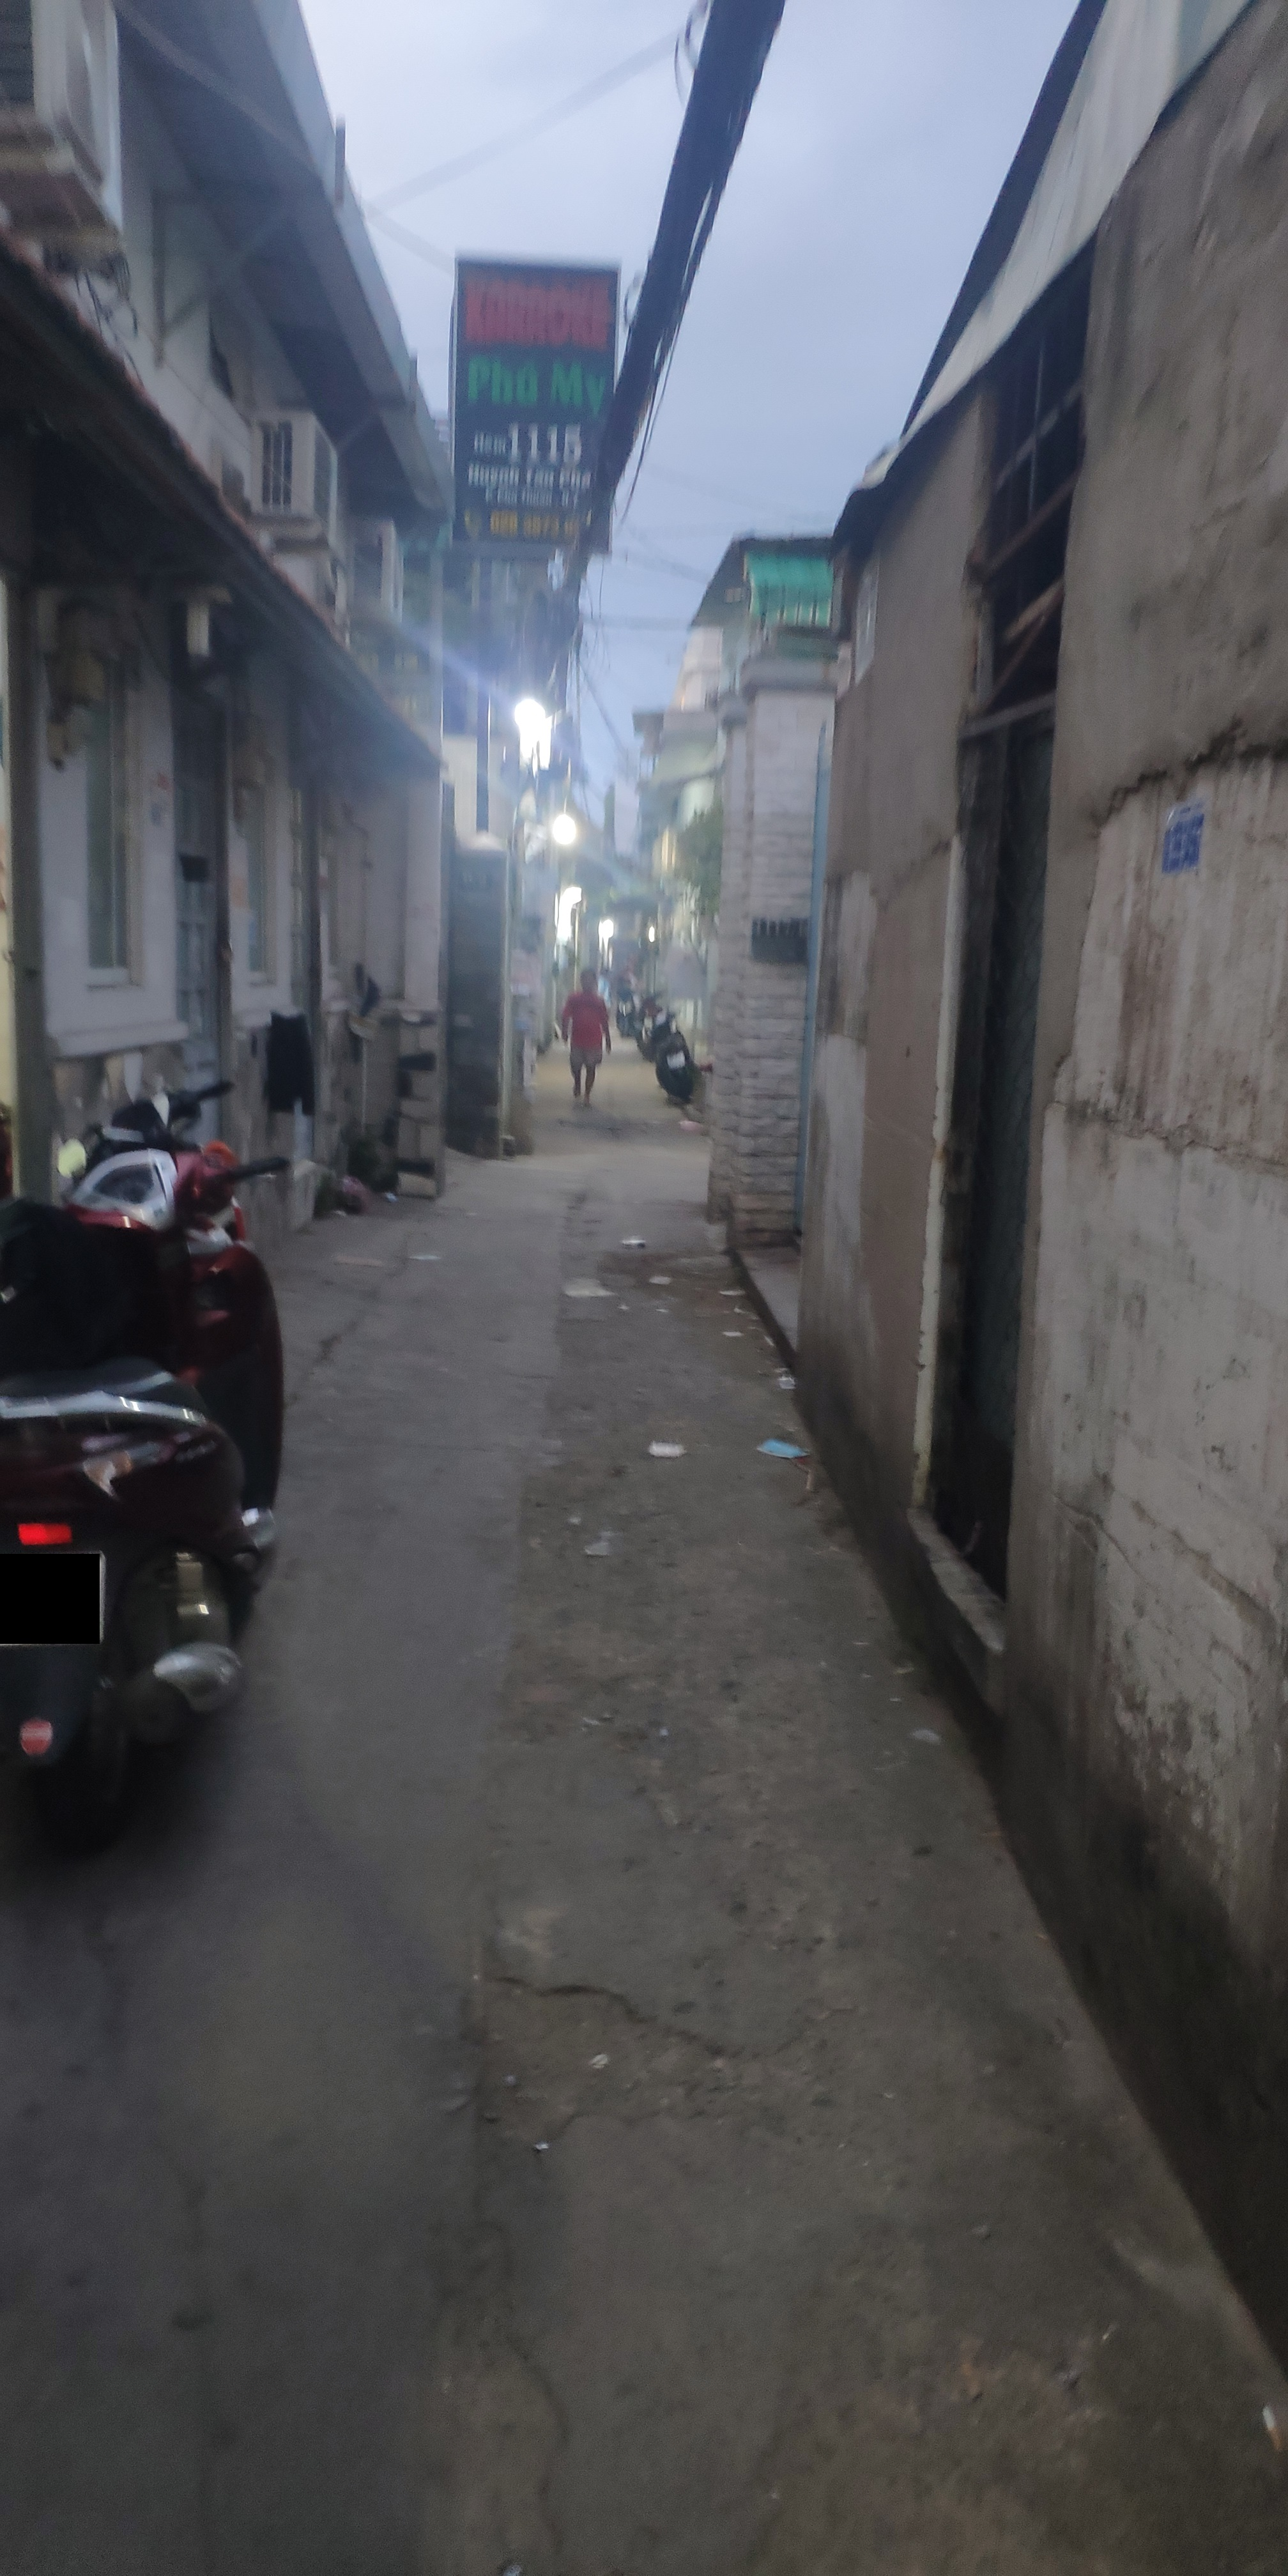hole: (491, 1973, 866, 2177)
